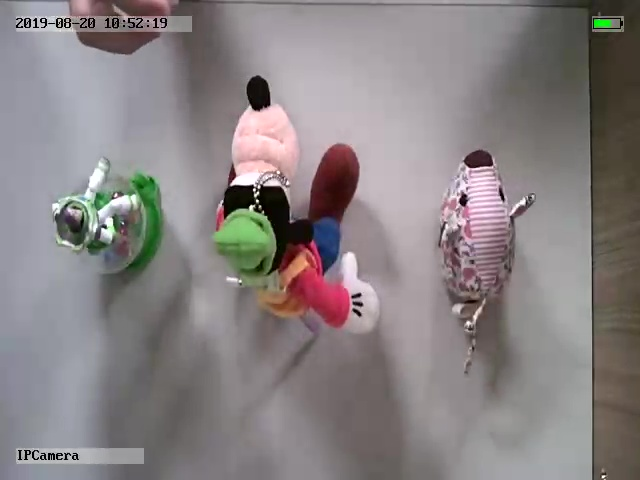buzz: (48, 154, 165, 277)
goofy: (209, 75, 380, 335)
pig: (437, 148, 535, 378)
